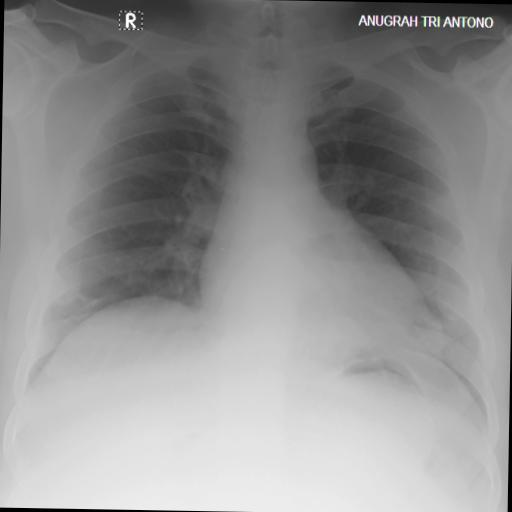kardiomegali: (18, 16, 500, 425)
